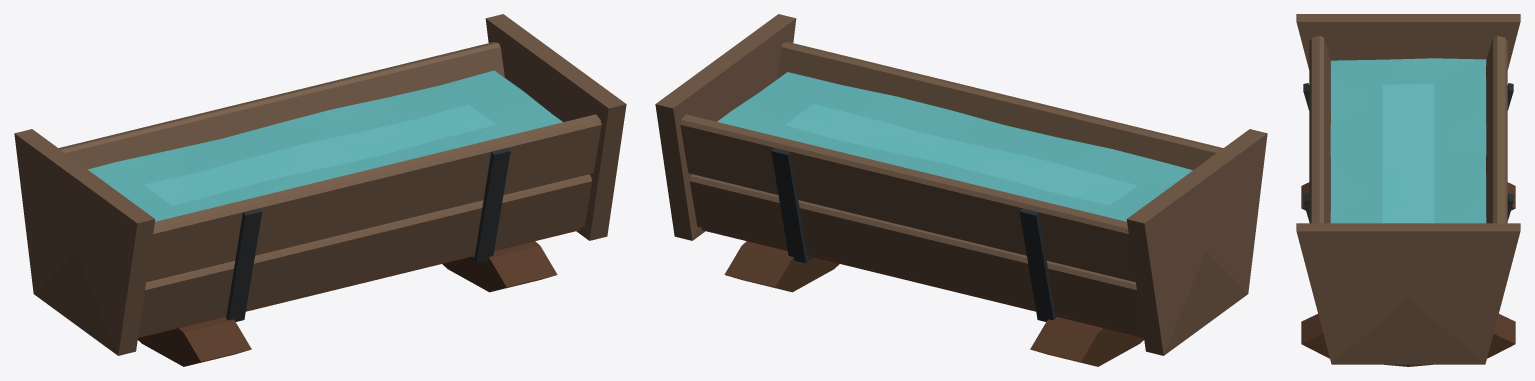
Rendered from prop_water_trough_a.glb.
The picture shows the model from 3 angles, left to right: view 1: azimuth 30°, elevation 25°; view 2: azimuth 150°, elevation 25°; view 3: azimuth 270°, elevation 25°; orthographic projection. The views are drawn at different scales.
Visible parts, largest first — view 1: prop_water_trough_a_mesh; view 2: prop_water_trough_a_mesh; view 3: prop_water_trough_a_mesh.
Part boxes in pixels (box(x1,y1,x2,y2)): prop_water_trough_a_mesh: box(14, 14, 626, 366); prop_water_trough_a_mesh: box(655, 14, 1267, 366); prop_water_trough_a_mesh: box(1296, 14, 1520, 366).
Size of the model in its own units: 1.54 by 0.5449 by 0.67.
